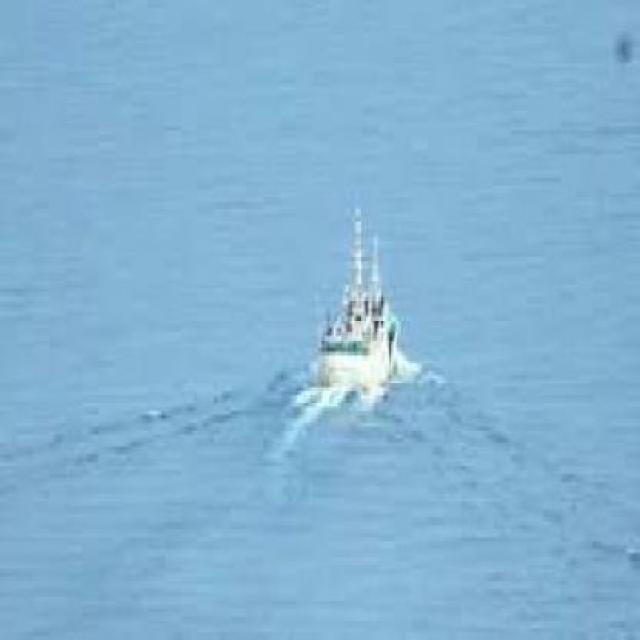fish-b: (303, 194, 411, 400)
